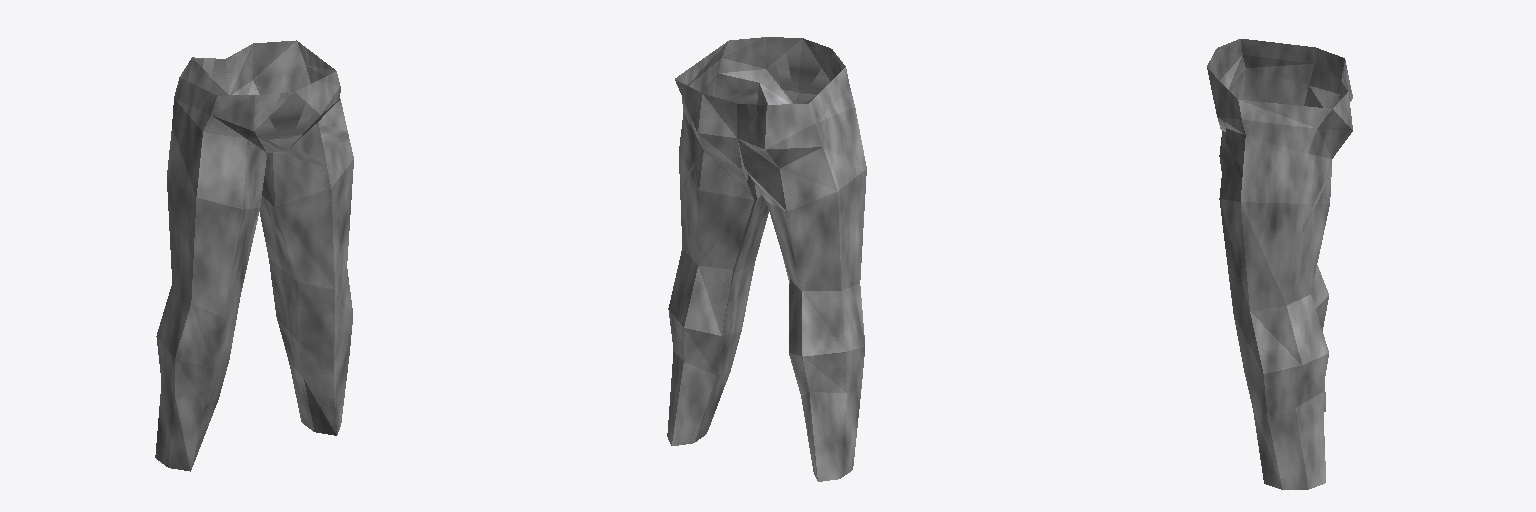
The picture shows the model from 3 angles: view 1: azimuth 30°, elevation 25°; view 2: azimuth 150°, elevation 25°; view 3: azimuth 270°, elevation 25°; orthographic projection.
Visible parts, largest first — view 1: Mesh_HumanMale_Materia.005; view 2: Mesh_HumanMale_Materia.005; view 3: Mesh_HumanMale_Materia.005.
Part boxes in pixels (bbox=[...]): Mesh_HumanMale_Materia.005: bbox=[155, 40, 353, 471]; Mesh_HumanMale_Materia.005: bbox=[667, 37, 866, 481]; Mesh_HumanMale_Materia.005: bbox=[1207, 39, 1352, 489].
Size of the model in its own units: 0.4551 by 0.9361 by 0.3238.
1 materials, 1 textured.